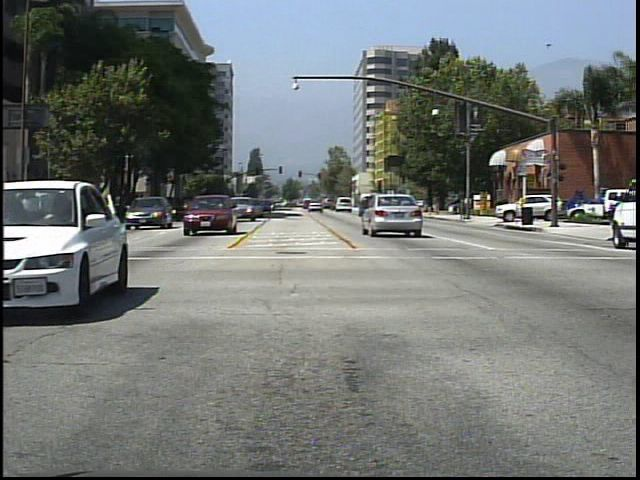person: (459, 190, 475, 222), (431, 191, 443, 215)
